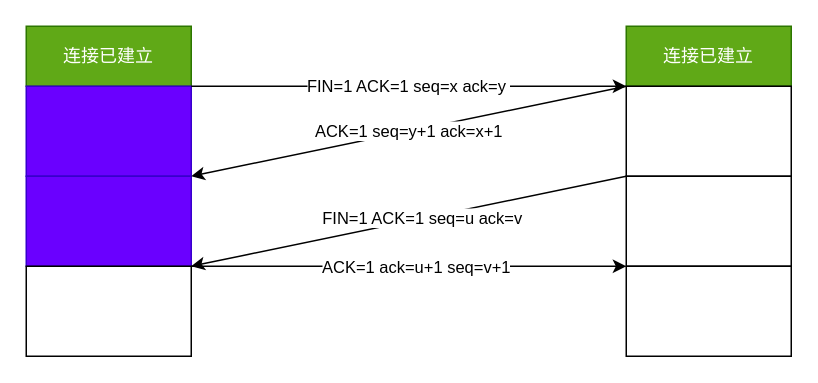
Image size: 818x383. Some labels were removed from this diagram. The box of each missing label's shape, as (x1, y1, x2, y2) in pixels:
CLOSE_WAIT1 关闭等待1: (25, 85, 191, 176)
CLOSE_WAIT2 关闭等待2: (25, 175, 191, 266)
